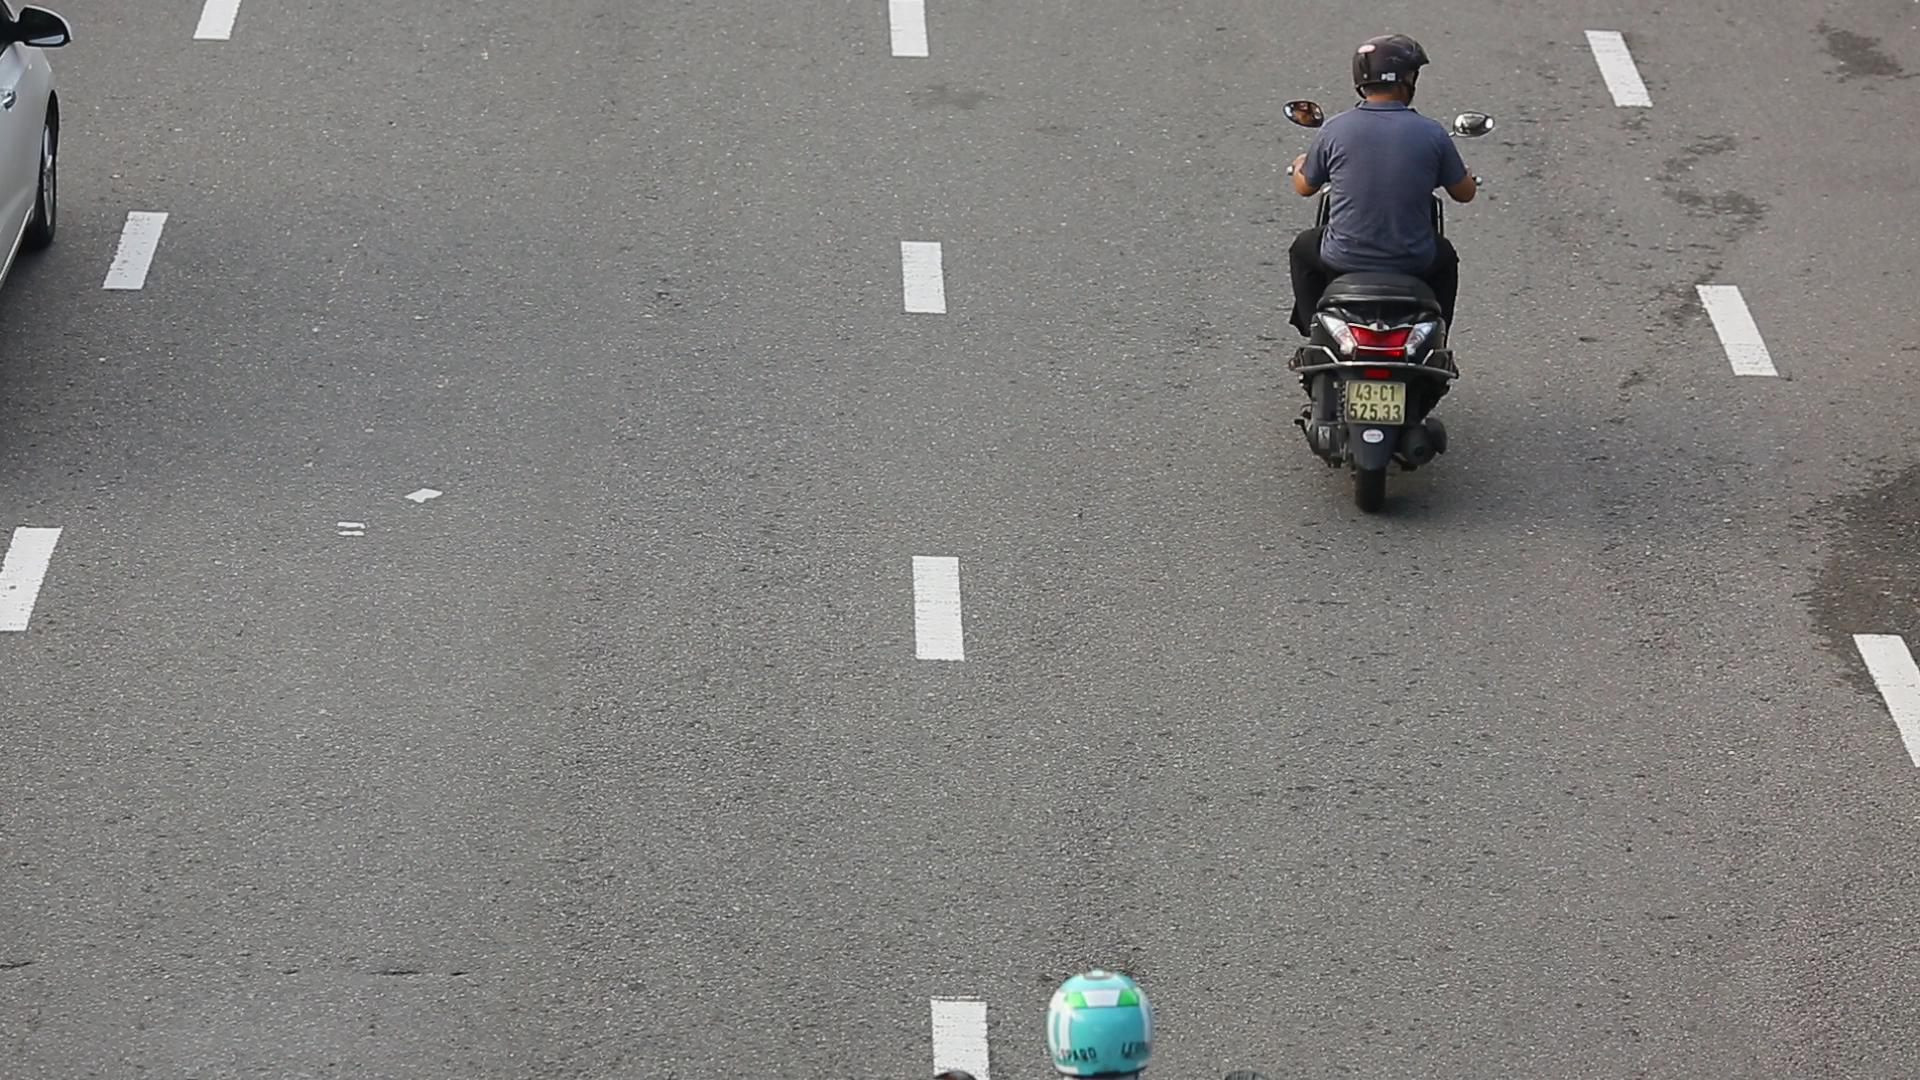motobike: (1276, 4, 1501, 533)
